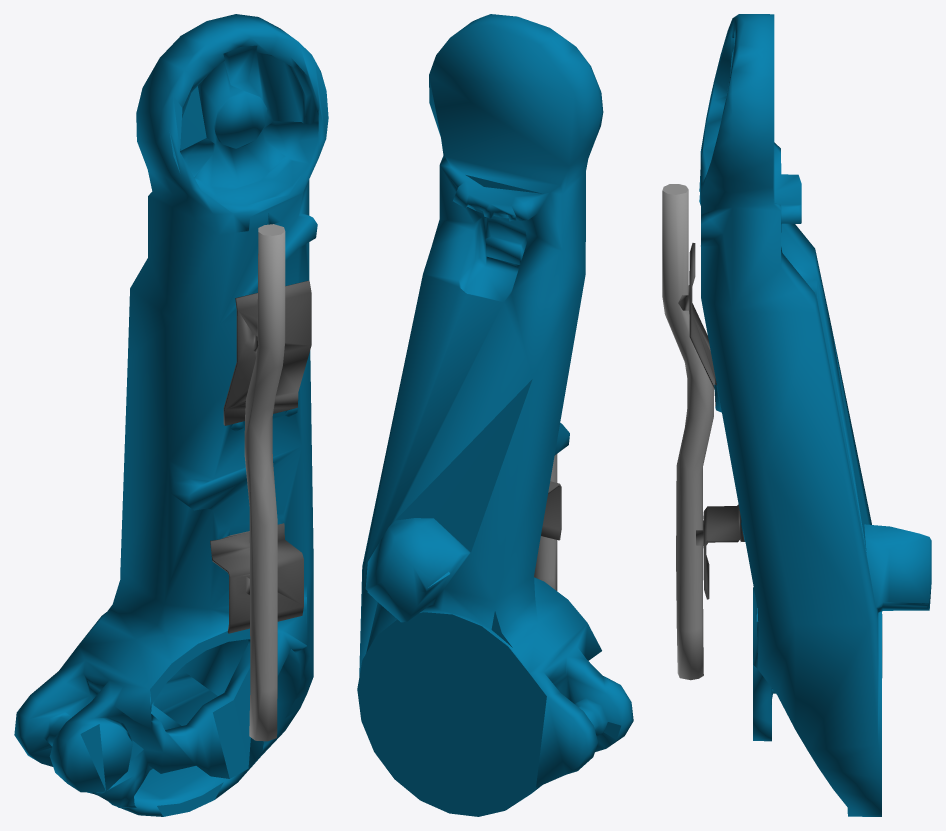
3 renders of one model, left to right at view 1: azimuth 30°, elevation 25°; view 2: azimuth 150°, elevation 25°; view 3: azimuth 270°, elevation 25°, orthographic. The views are drawn at different scales.
Visible parts, largest first — view 1: mh00215-j00_lk2; view 2: mh00215-j00_lk2; view 3: mh00215-j00_lk2.
Part boxes in pixels (x1,y1,x2,y2): mh00215-j00_lk2: [14, 14, 328, 816]; mh00215-j00_lk2: [357, 14, 633, 816]; mh00215-j00_lk2: [662, 14, 931, 816].
Bounding box in the file's own units: 0.4888 × 0.4715 × 1.51.
